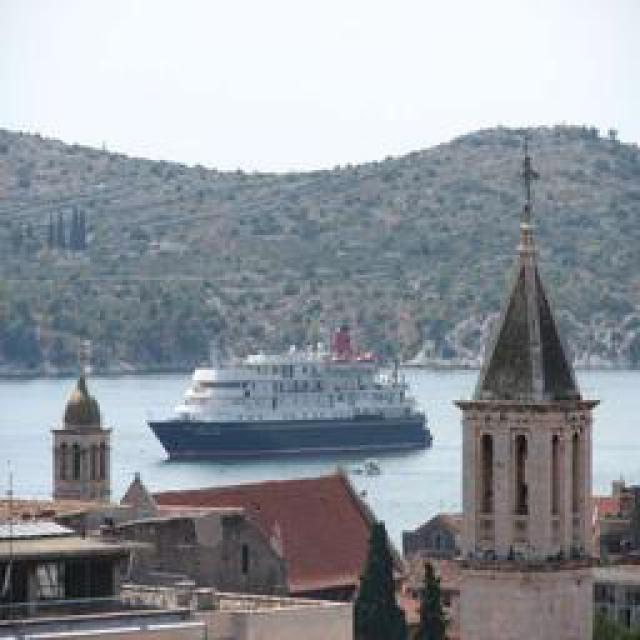Ship: (148, 326, 436, 466)
